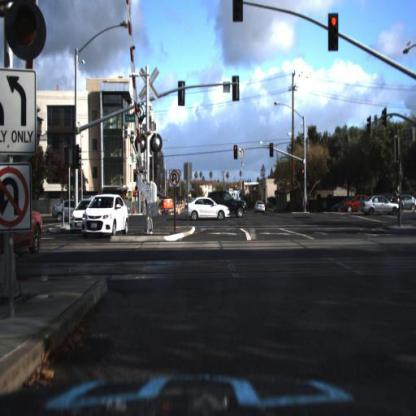car: (80, 196, 129, 238), (185, 195, 230, 226), (68, 196, 101, 234), (51, 197, 91, 223), (69, 199, 98, 234), (213, 190, 246, 219), (345, 193, 375, 216), (329, 196, 355, 212), (332, 196, 354, 214)
trafficLight: (10, 2, 46, 57), (233, 2, 245, 23)
trafficLight-Red: (328, 13, 340, 52), (269, 140, 277, 161), (301, 165, 307, 186), (233, 142, 239, 162), (271, 142, 275, 158)
